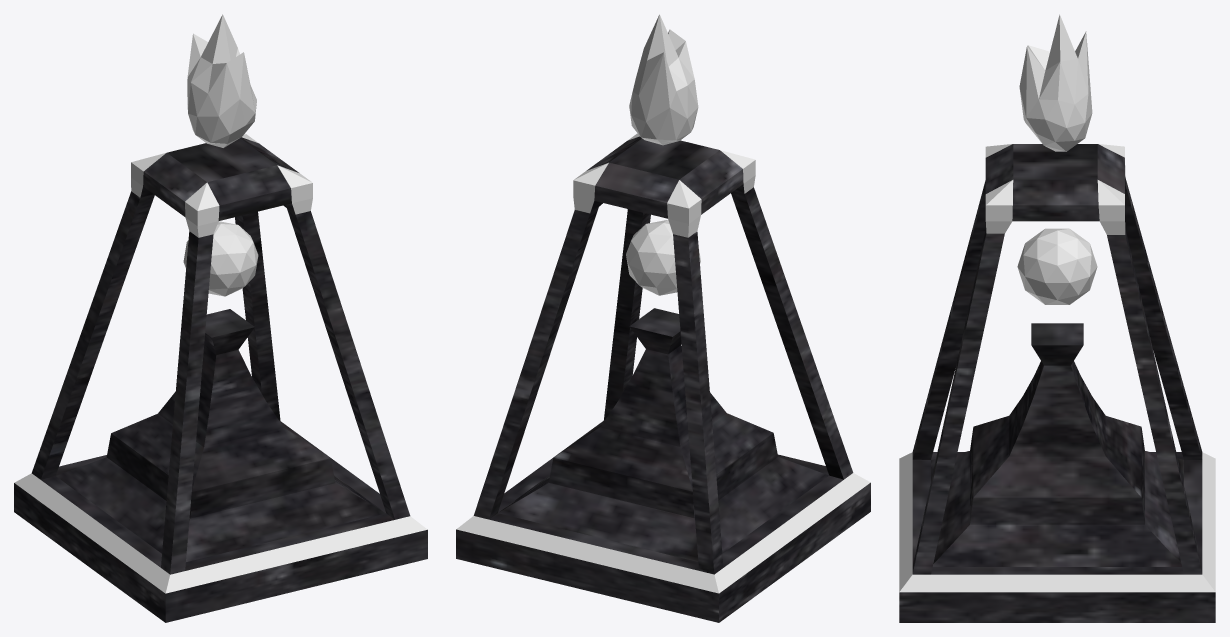
The model's file is ateş kulesi.fbx.
3 renders of one model, left to right at view 1: azimuth 30°, elevation 25°; view 2: azimuth 150°, elevation 25°; view 3: azimuth 270°, elevation 25°, orthographic. The views are drawn at different scales.
Visible parts, largest first — view 1: Cube.001, Icosphere, Cube.002; view 2: Cube.001, Icosphere, Cube.002; view 3: Cube.001, Icosphere, Cube.002.
Boxes of the visible parts, <box> form: Cube.001: <box>14,134,427,622</box>; Icosphere: <box>187,14,256,147</box>; Cube.002: <box>183,221,258,296</box>; Cube.001: <box>456,133,870,622</box>; Icosphere: <box>629,14,698,145</box>; Cube.002: <box>626,220,700,295</box>; Cube.001: <box>899,144,1215,622</box>; Icosphere: <box>1019,14,1092,151</box>; Cube.002: <box>1017,228,1097,304</box>.
Size of the model in its own units: 200 by 379 by 200.
Materials: 3 (1 with a texture image).
